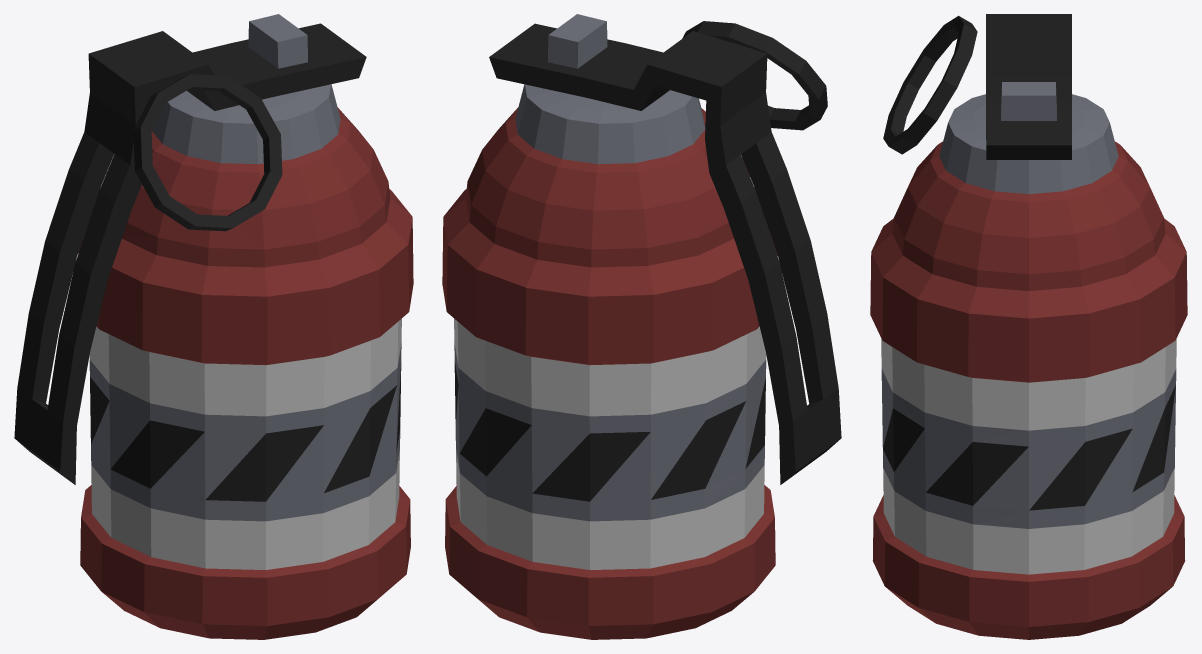
The model's file is firegrenade.glb.
3 views of the same model, side by side, from view 1: azimuth 30°, elevation 25°; view 2: azimuth 150°, elevation 25°; view 3: azimuth 270°, elevation 25° (orthographic). The views are drawn at different scales.
Visible parts, largest first — view 1: FireGrenade; view 2: FireGrenade; view 3: FireGrenade.
Boxes of the visible parts, x1,y1,x2,y2 form: FireGrenade: (14,14,413,639); FireGrenade: (442,14,841,639); FireGrenade: (870,14,1187,639).
Bounding box in the file's own units: 0.5695 × 0.85 × 0.4706.
